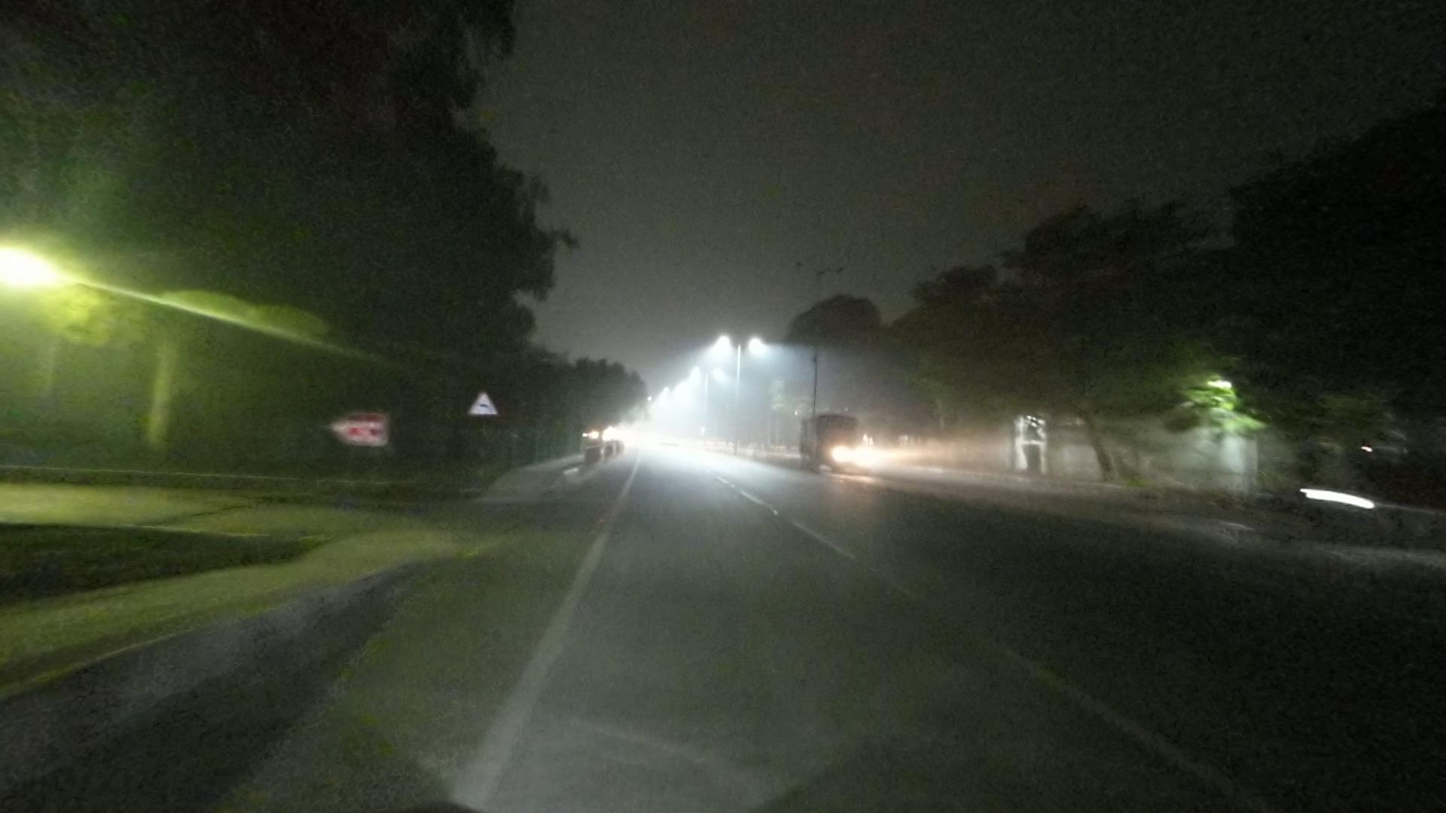streetlight: (794, 260, 815, 273), (823, 266, 845, 275)
